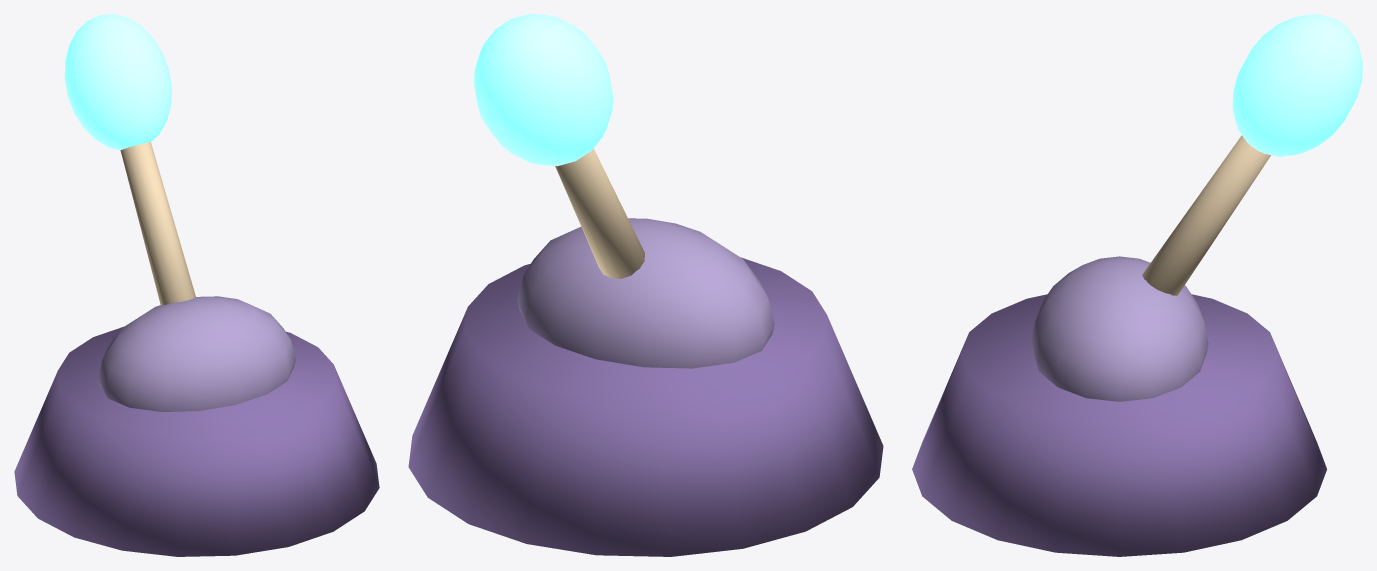
File: CrystalLever.fbx
The picture shows the model from 3 angles, left to right: view 1: azimuth 30°, elevation 25°; view 2: azimuth 150°, elevation 25°; view 3: azimuth 270°, elevation 25°; orthographic projection. The views are drawn at different scales.
Parts seen in each view (by area): view 1: CrystalLever, LeverHandle; view 2: CrystalLever, LeverHandle; view 3: CrystalLever, LeverHandle.
Part boxes in pixels (<box>): CrystalLever: <box>14,296,379,556</box>; LeverHandle: <box>64,14,195,305</box>; CrystalLever: <box>408,218,883,556</box>; LeverHandle: <box>474,14,644,278</box>; CrystalLever: <box>912,256,1326,556</box>; LeverHandle: <box>1142,14,1362,295</box>.
Bounding box in the file's own units: 84 × 91.23 × 101.
Materials: 1 (1 with a texture image).
